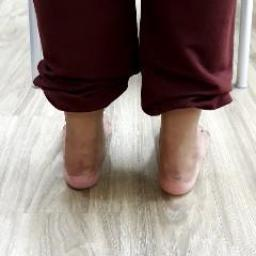Back View -Both Feet-: (31, 78, 230, 220)
